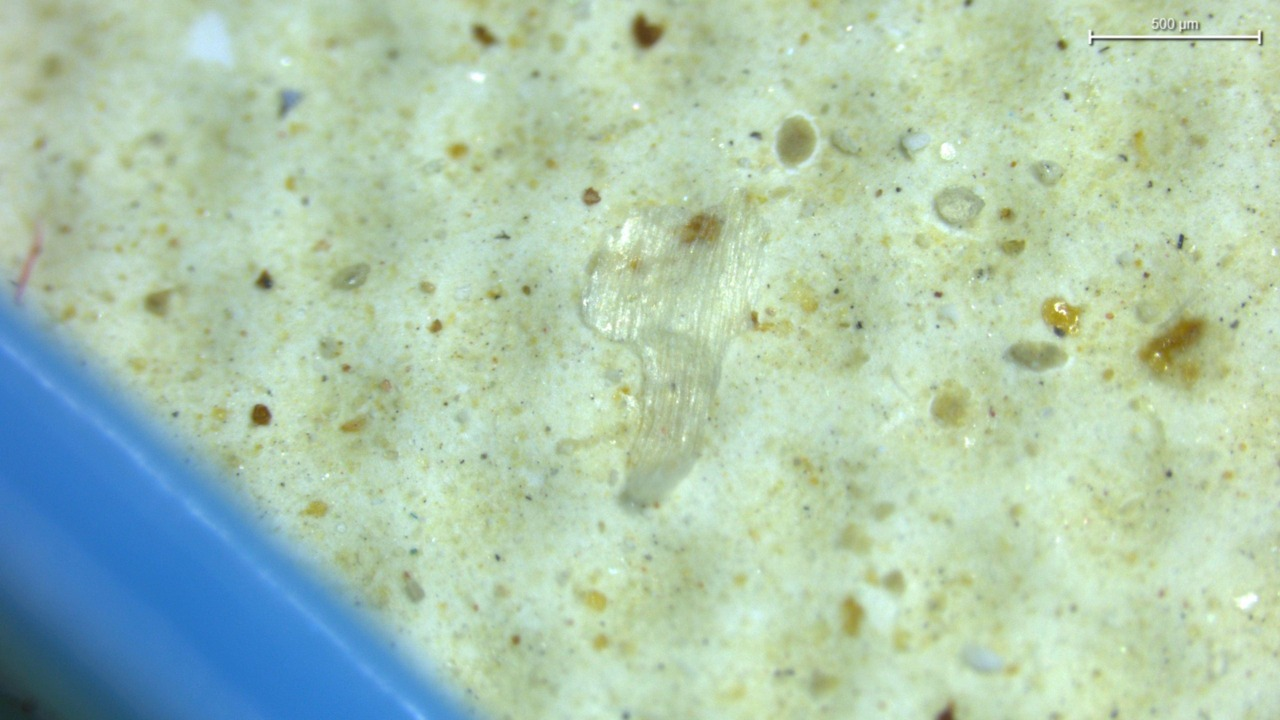microplastic_fragment: (582, 205, 765, 504)
